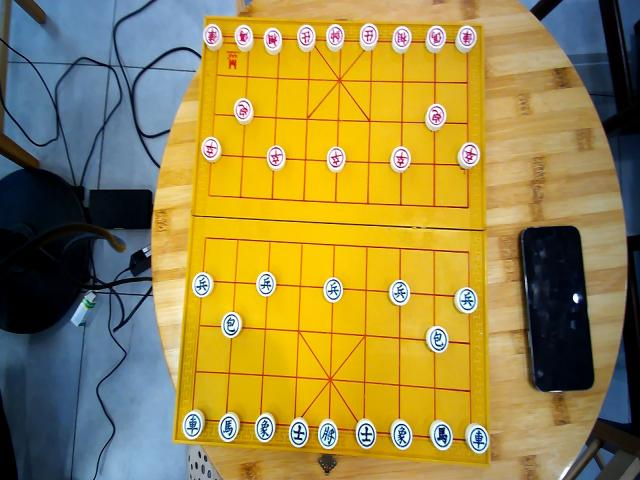piece: (429, 419, 453, 451), (465, 422, 489, 453), (454, 24, 478, 54), (390, 418, 412, 450), (182, 409, 204, 441), (424, 325, 448, 354), (454, 286, 478, 315), (457, 141, 481, 170), (254, 412, 276, 443), (317, 418, 339, 449), (218, 412, 240, 443), (355, 418, 377, 449), (287, 417, 309, 448), (424, 103, 446, 132), (425, 25, 447, 54), (220, 310, 242, 338), (191, 271, 213, 299), (388, 279, 410, 306), (359, 22, 379, 51), (263, 26, 283, 55), (392, 25, 412, 54), (234, 24, 254, 53), (326, 145, 346, 173), (296, 24, 316, 52), (390, 145, 410, 173), (201, 136, 221, 164), (234, 97, 254, 125), (203, 23, 223, 51), (323, 276, 343, 303), (266, 144, 286, 171), (326, 23, 344, 52), (256, 271, 276, 297)
